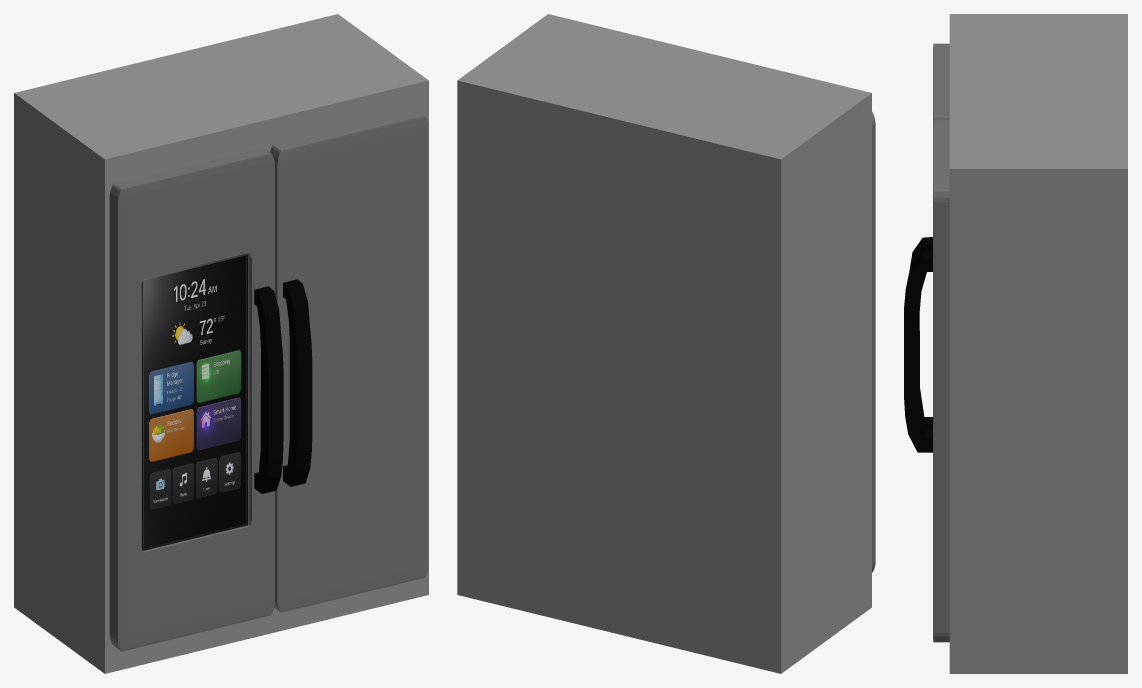
Rendered from REFRIGERATOR.glb.
3 renders of one model, left to right at view 1: azimuth 30°, elevation 25°; view 2: azimuth 150°, elevation 25°; view 3: azimuth 270°, elevation 25°, orthographic.
Visible parts, largest first — view 1: BODY, LEFT DOOR, RIGHT DOOR; view 2: BODY, LEFT DOOR; view 3: BODY, RIGHT DOOR, LEFT DOOR.
Boxes of the visible parts, left/top/right/bottom form: BODY: left=14, top=14, right=428, bottom=673; LEFT DOOR: left=109, top=147, right=283, bottom=651; RIGHT DOOR: left=270, top=109, right=428, bottom=612; BODY: left=457, top=14, right=871, bottom=673; LEFT DOOR: left=872, top=112, right=875, bottom=572; BODY: left=949, top=14, right=1127, bottom=673; RIGHT DOOR: left=904, top=120, right=949, bottom=642; LEFT DOOR: left=904, top=43, right=949, bottom=430.
Bounding box in the file's own units: 1.59 × 2.41 × 0.969.
Materials: 13 (1 with a texture image).
